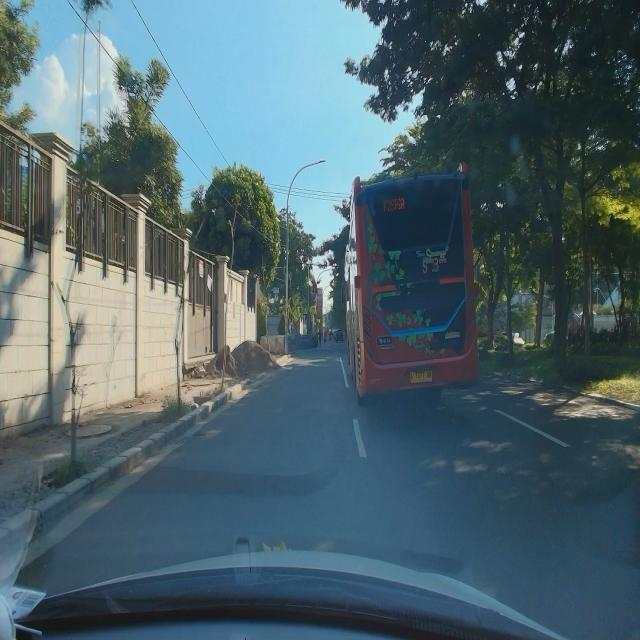bus: (339, 160, 483, 408)
license-plate: (409, 369, 433, 384)
